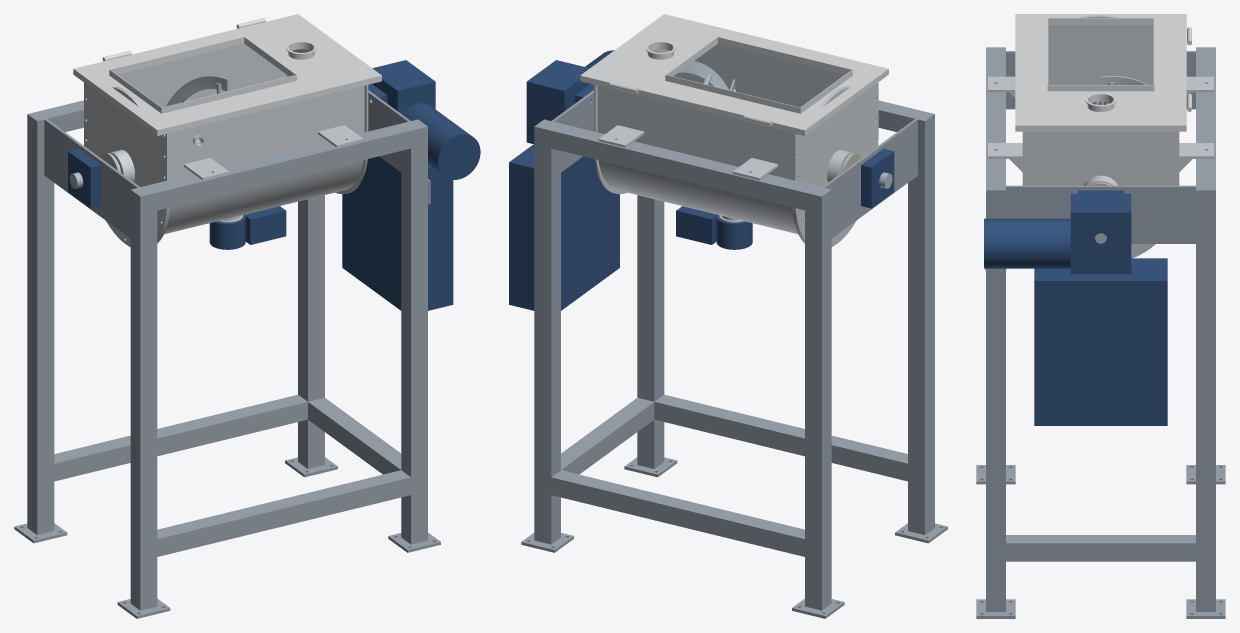
Rendered from P1-301-ASM.glb.
3 renders of one model, left to right at view 1: azimuth 30°, elevation 25°; view 2: azimuth 150°, elevation 25°; view 3: azimuth 270°, elevation 25°, orthographic.
Parts seen in each view (by area): view 1: P1-301-401, P1-301-101, P1-301-403, P1-301-301, CP-301 control panel, P1-301-402, P1-333 gearmotor, P1-301-110, P1-301-405, P1-301-406, P1-301-302, P1-331 valve (+3 smaller); view 2: P1-301-401, P1-301-101, P1-301-403, P1-301-301, CP-301 control panel, P1-301-402, P1-301-110, P1-301-405, P1-333 gearmotor, P1-301-406, P1-301-302, P1-331 valve (+2 smaller); view 3: CP-301 control panel, P1-301-401, P1-301-301, P1-333 gearmotor, P1-301-102, P1-301-405, P1-301-110, P1-301-403, P1-301-402, P1-301-406, P1-301-105, P1-301-302 (+1 smaller).
Part boxes in pixels (bbox=[...]): P1-301-401: bbox=[27, 115, 427, 610]; P1-301-101: bbox=[117, 43, 364, 234]; P1-301-403: bbox=[54, 394, 410, 556]; P1-301-301: bbox=[73, 14, 381, 135]; CP-301 control panel: bbox=[342, 156, 453, 310]; P1-301-402: bbox=[45, 100, 410, 210]; P1-333 gearmotor: bbox=[372, 60, 480, 179]; P1-301-110: bbox=[84, 82, 168, 246]; P1-301-405: bbox=[44, 90, 410, 238]; P1-301-406: bbox=[14, 110, 440, 618]; P1-301-302: bbox=[109, 36, 296, 113]; P1-331 valve: bbox=[209, 206, 286, 249]; P1-301-401: bbox=[534, 115, 934, 610]; P1-301-101: bbox=[597, 43, 844, 234]; P1-301-403: bbox=[551, 394, 907, 556]; P1-301-301: bbox=[580, 14, 888, 135]; CP-301 control panel: bbox=[509, 144, 619, 310]; P1-301-402: bbox=[551, 100, 917, 210]; P1-301-110: bbox=[793, 82, 878, 246]; P1-301-405: bbox=[551, 90, 917, 238]; P1-333 gearmotor: bbox=[526, 50, 613, 143]; P1-301-406: bbox=[521, 110, 947, 618]; P1-301-302: bbox=[665, 36, 852, 113]; P1-331 valve: bbox=[676, 206, 752, 249]; CP-301 control panel: bbox=[1034, 258, 1167, 425]; P1-301-401: bbox=[986, 191, 1215, 611]; P1-301-301: bbox=[1015, 14, 1186, 131]; P1-333 gearmotor: bbox=[984, 193, 1131, 274]; P1-301-102: bbox=[1022, 131, 1179, 258]; P1-301-405: bbox=[1006, 51, 1195, 243]; P1-301-110: bbox=[1048, 15, 1153, 108]; P1-301-403: bbox=[1006, 535, 1195, 561]; P1-301-402: bbox=[986, 56, 1215, 181]; P1-301-406: bbox=[976, 47, 1225, 618]; P1-301-105: bbox=[988, 76, 1213, 171]; P1-301-302: bbox=[1047, 18, 1154, 91].
Size of the model in its own units: 1565 by 2018 by 950.
